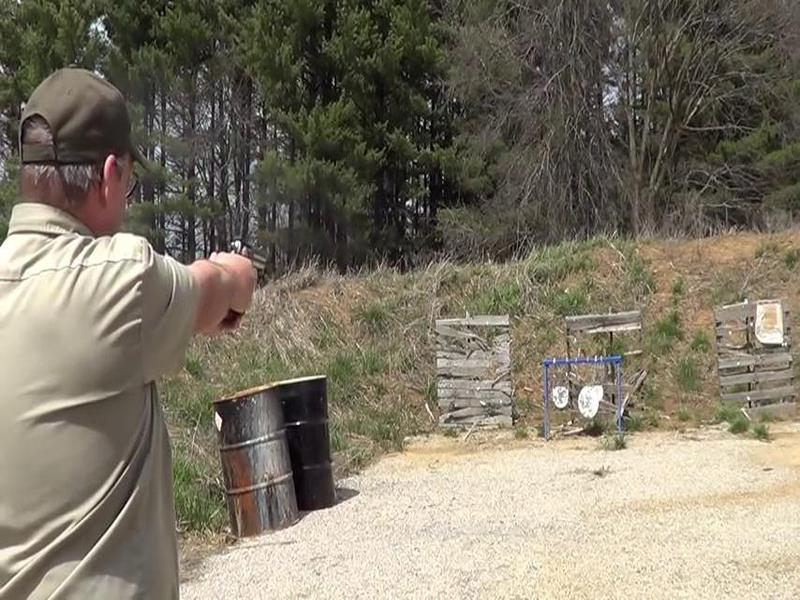Revolver: (200, 235, 296, 352)
